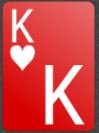Heart: (10, 45, 36, 71)
